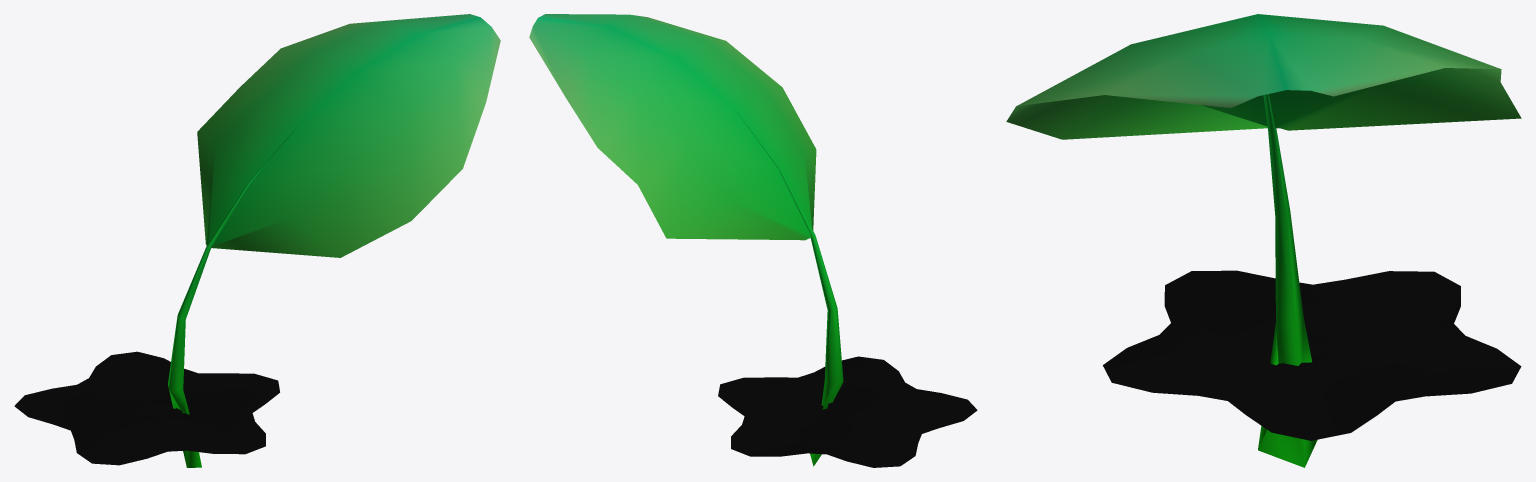
Rendered from Single Frond.fbx.
3 renders of one model, left to right at view 1: azimuth 30°, elevation 25°; view 2: azimuth 150°, elevation 25°; view 3: azimuth 270°, elevation 25°, orthographic. The views are drawn at different scales.
Visible parts, largest first — view 1: fern02_1, _0; view 2: fern02_1, _0; view 3: _0, fern02_1.
Part boxes in pixels (bbox=[...]): fern02_1: bbox=[197, 14, 500, 257]; _0: bbox=[14, 126, 297, 467]; fern02_1: bbox=[529, 14, 816, 240]; _0: bbox=[718, 112, 977, 467]; _0: bbox=[1103, 94, 1521, 467]; fern02_1: bbox=[1006, 14, 1521, 139].
Size of the model in its own units: 73.29 by 64.44 by 50.12.
